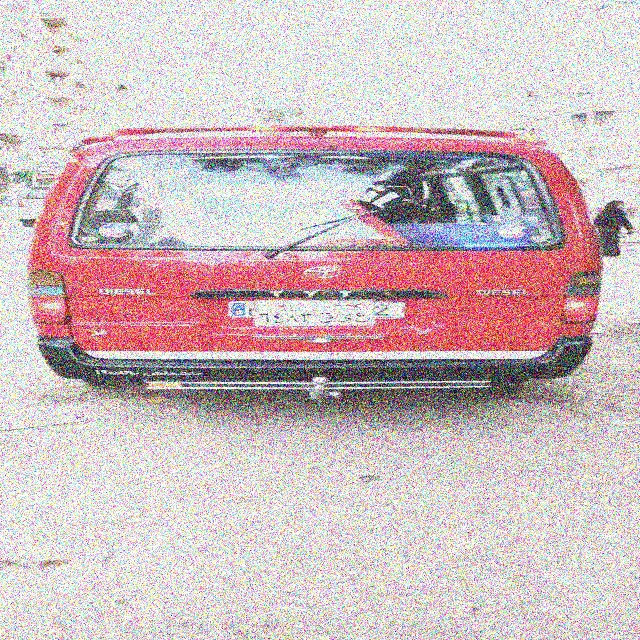License Plate: (253, 299, 376, 328)
